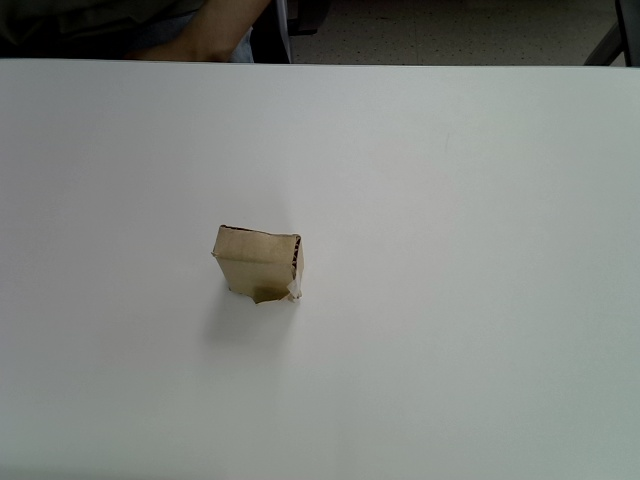defect: (210, 224, 307, 304)
